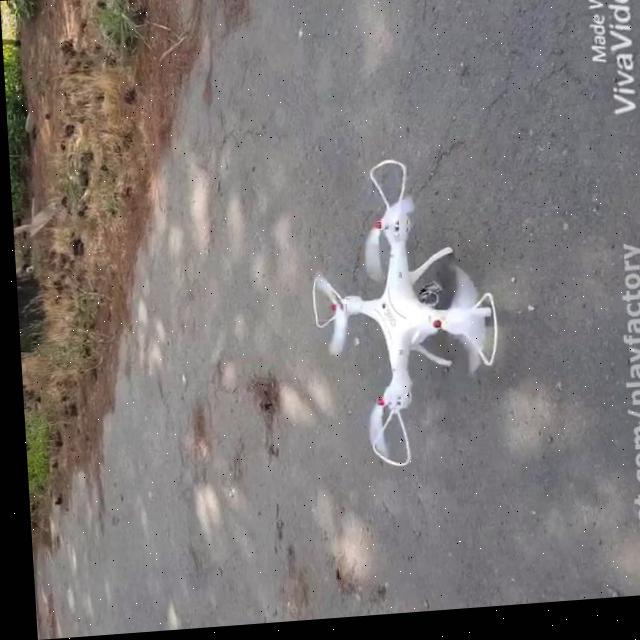drone: (297, 156, 503, 479)
